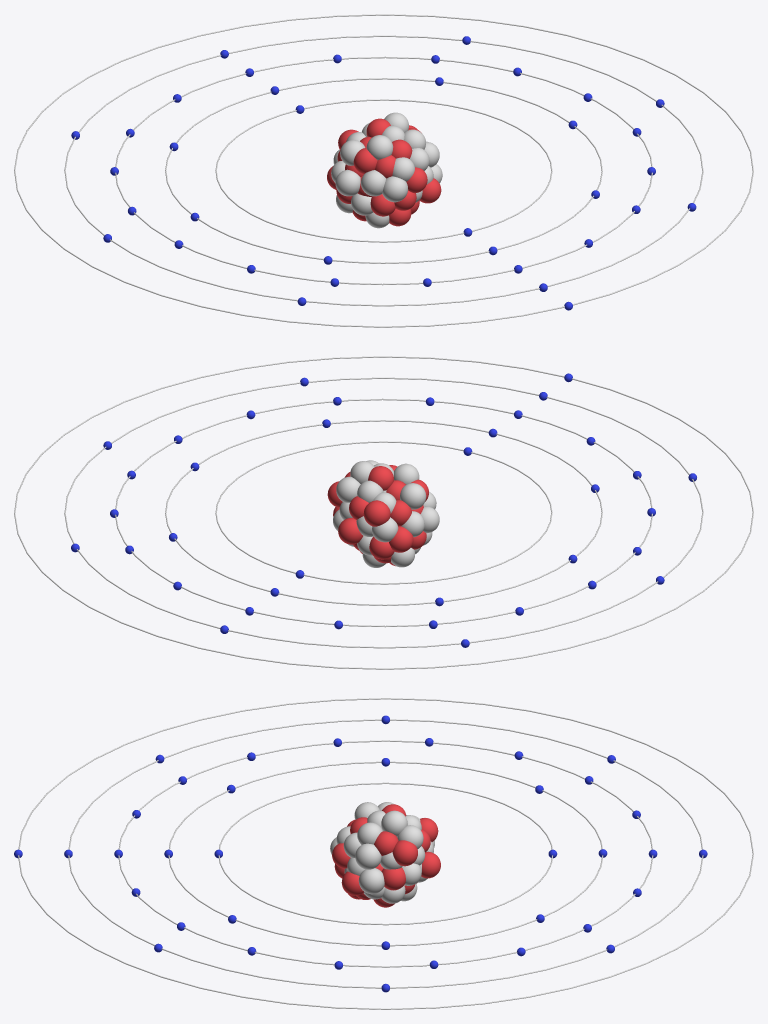
Rendered from Rubidium.glb.
3 views of the same model, one above another, from view 1: azimuth 30°, elevation 25°; view 2: azimuth 150°, elevation 25°; view 3: azimuth 270°, elevation 25° (orthographic).
Parts seen in each view (by area): view 1: O-Schale, N-Schale, M-Schale, L-Schale, K-Schale, Neutron 44, Neutron 42, Neutron 40; view 2: O-Schale, N-Schale, M-Schale, L-Schale, K-Schale, Proton 34, Neutron 35; view 3: O-Schale, N-Schale, M-Schale, L-Schale, K-Schale, Neutron 48, Neutron 43, Proton 29.
Part boxes in pixels (x1,y1,x2,y2): O-Schale: [14, 14, 753, 327]; N-Schale: [64, 35, 703, 306]; M-Schale: [115, 56, 652, 285]; L-Schale: [165, 78, 602, 263]; K-Schale: [215, 99, 552, 242]; Neutron 44: [335, 169, 360, 196]; Neutron 42: [382, 176, 408, 202]; Neutron 40: [361, 170, 386, 196]; O-Schale: [14, 356, 753, 669]; N-Schale: [64, 377, 703, 648]; M-Schale: [115, 398, 652, 627]; L-Schale: [165, 420, 602, 605]; K-Schale: [215, 441, 552, 584]; Proton 34: [363, 500, 390, 526]; Neutron 35: [400, 483, 426, 509]; O-Schale: [18, 698, 753, 1009]; N-Schale: [68, 719, 703, 988]; M-Schale: [118, 740, 653, 967]; L-Schale: [168, 761, 603, 946]; K-Schale: [218, 782, 552, 925]; Neutron 48: [358, 868, 384, 894]; Neutron 43: [355, 843, 381, 869]; Proton 29: [392, 840, 417, 866].
Bounding box in the file's own units: 22.04 × 3.19 × 22.15.
